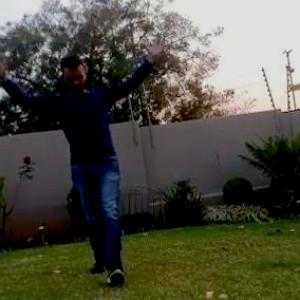takeoff: (1, 40, 164, 267)
